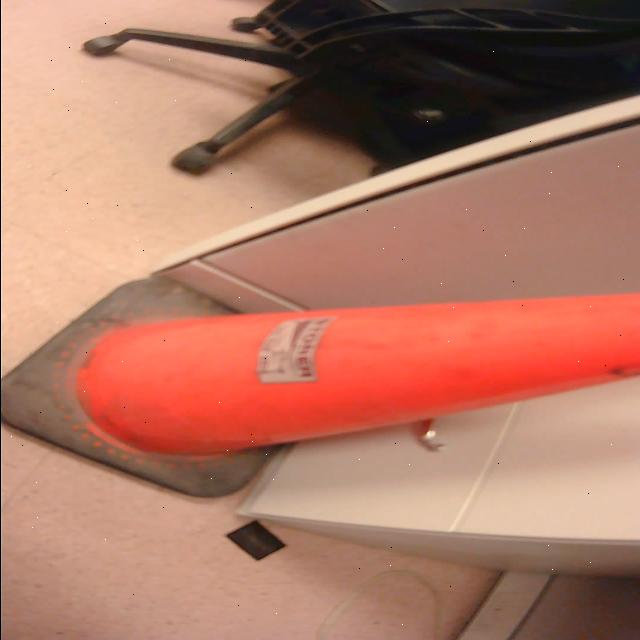traffic cone: (1, 269, 640, 507)
